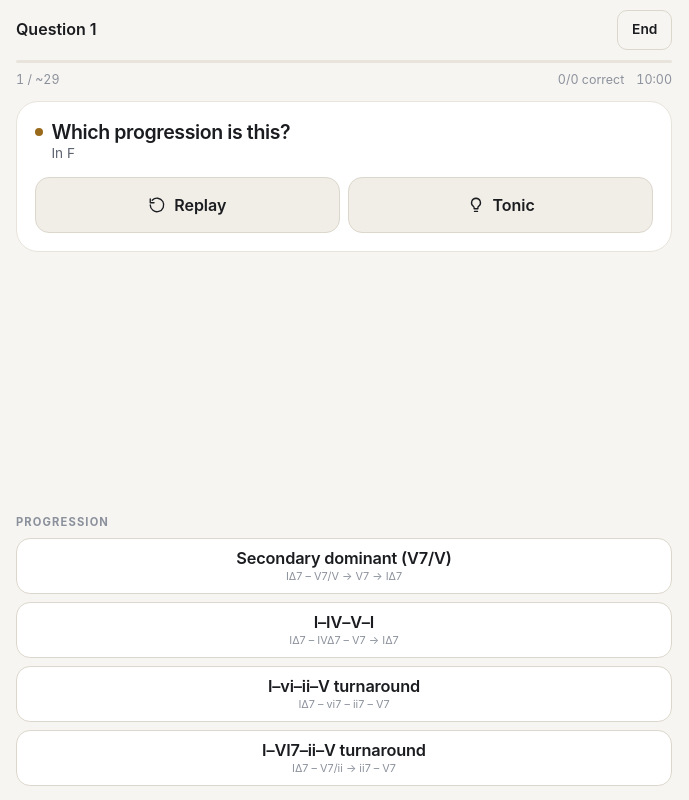
it: the answer panel folds away › says which it was in a line, and nothing else
Click the button "Secondary dominant (V7/V) I∆7 – V7/V → V7 → I∆7": (344, 566) 16,538 -> 672,594
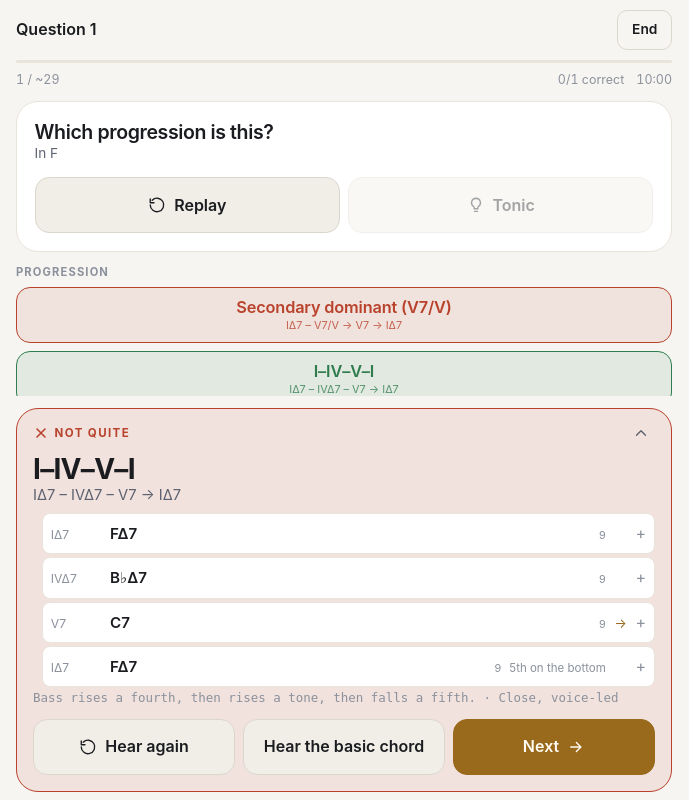
Click the button with class "feedback__fold": (641, 433) 619,411 -> 663,455
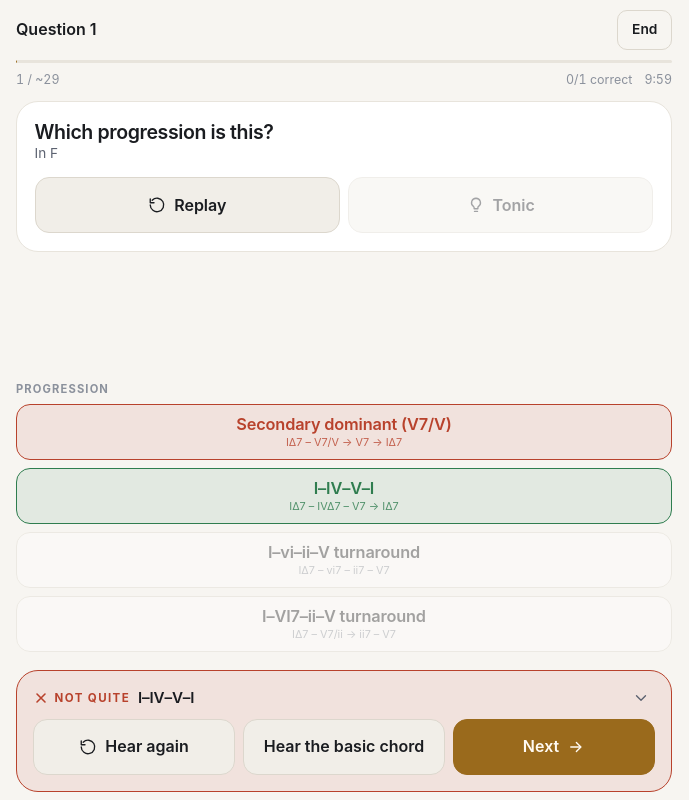
Check: the element with class "feedback__bar" reads "Not quite I–IV–V–I", box 55,691 -> 130,705
Check: the text with class "feedback__name" reads "I–IV–V–I", box 138,688 -> 194,707
Check: the element with class "revrow" is gone
